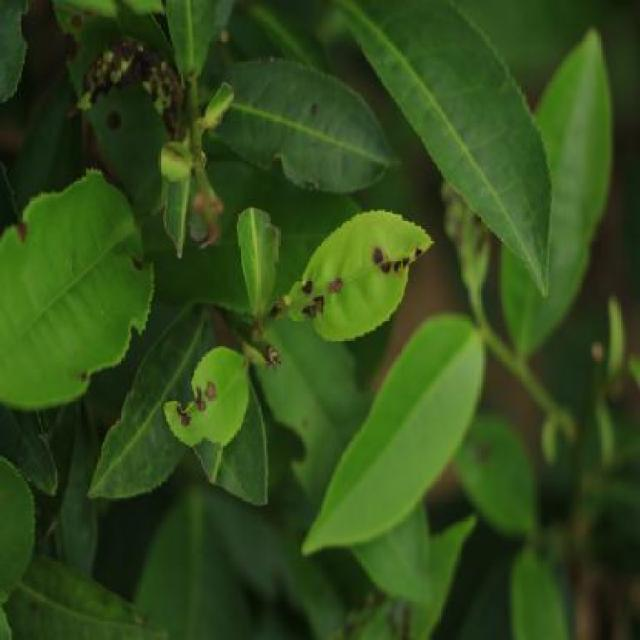Tea Mosquito bug infested leaf: (247, 191, 458, 326), (71, 9, 186, 122), (156, 336, 262, 452)
